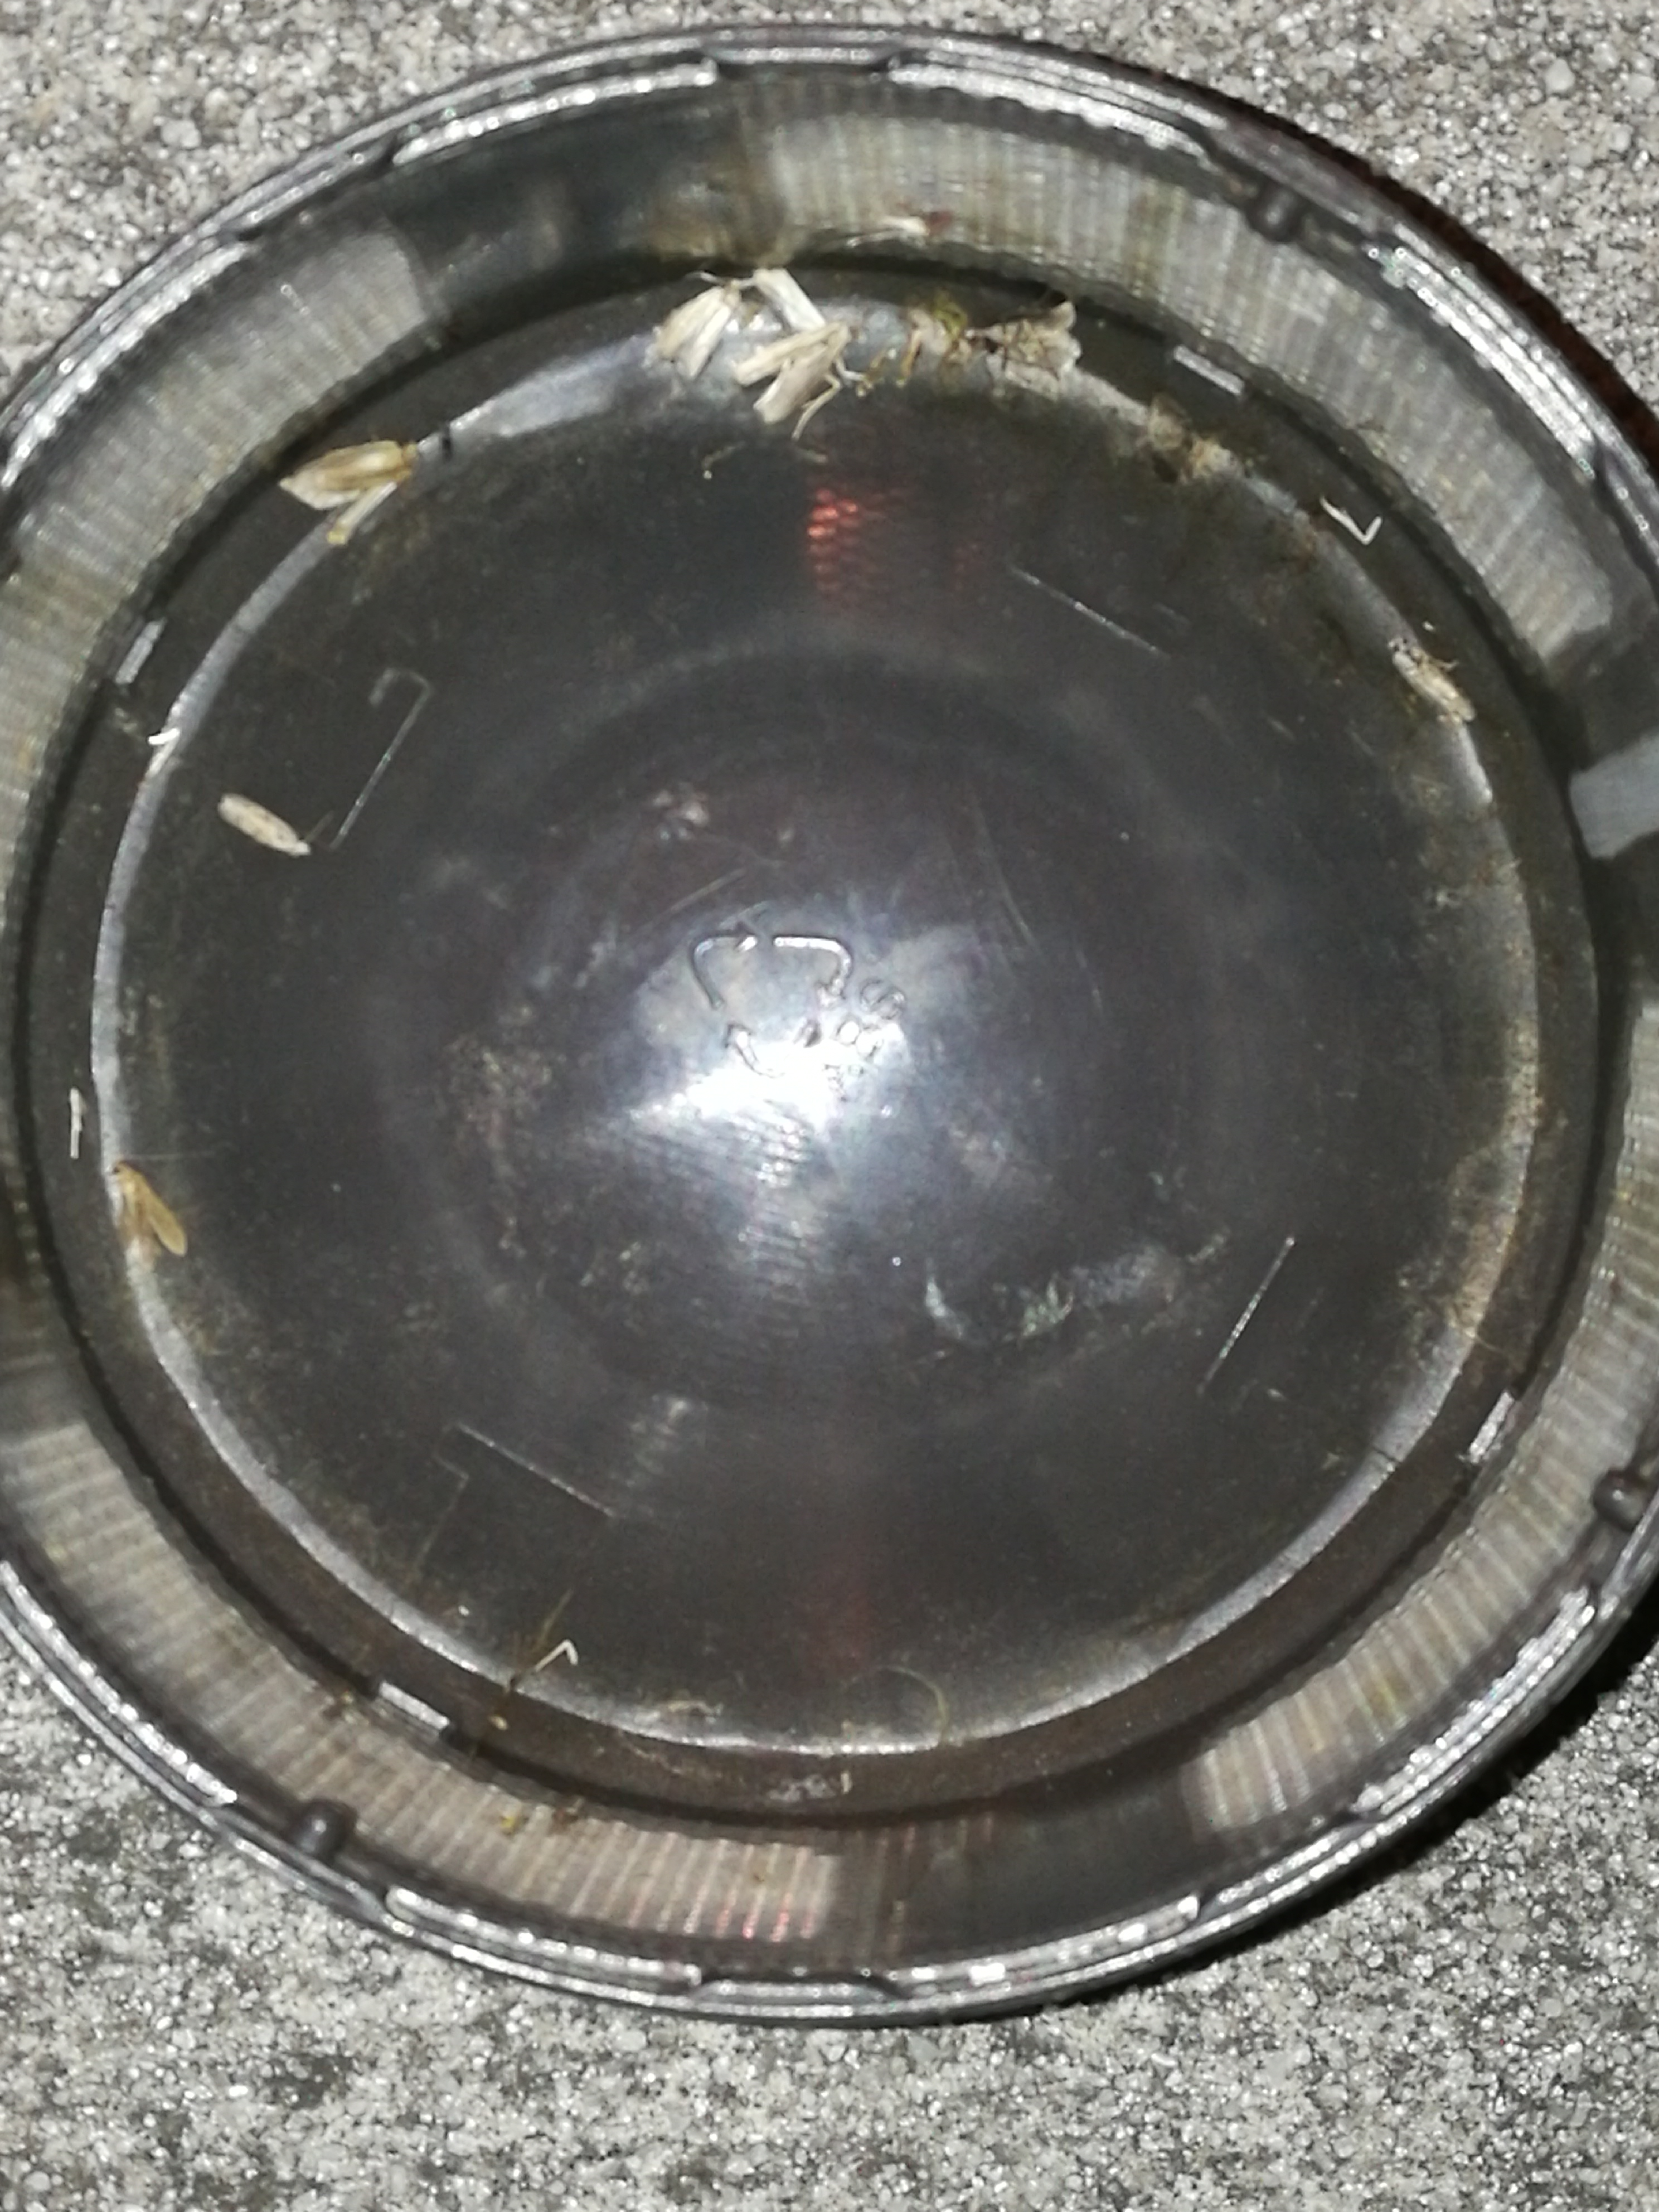mosquito: (1389, 637, 1474, 721), (218, 791, 310, 857), (751, 266, 824, 334)
moth: (277, 444, 420, 543), (964, 301, 1086, 401), (737, 324, 850, 423), (657, 277, 742, 380), (106, 1163, 186, 1256)
